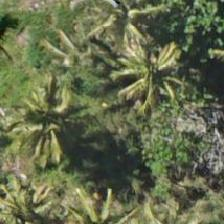coconut_tree: (89, 26, 179, 116), (0, 73, 83, 163), (0, 168, 45, 223)
